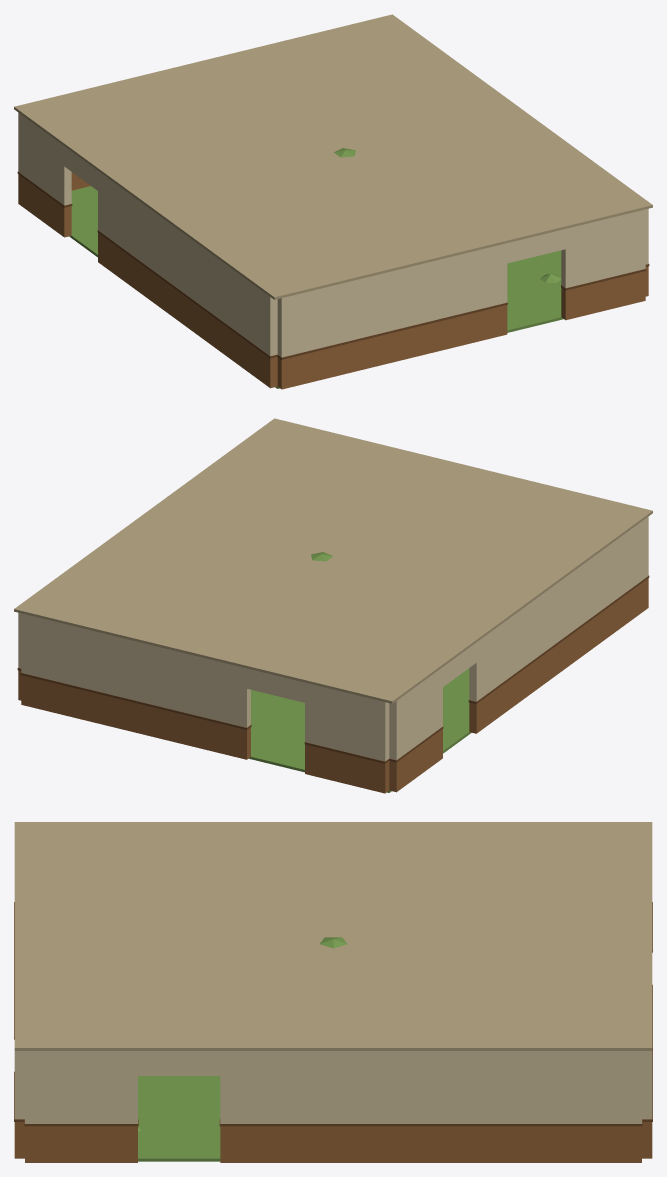
Rendered from room_zoology_habitat_sim.glb.
3 renders of one model, top to bottom at view 1: azimuth 30°, elevation 25°; view 2: azimuth 150°, elevation 25°; view 3: azimuth 270°, elevation 25°, orthographic. The views are drawn at different scales.
Parts seen in each view (by area): view 1: room_zoology_habitat_sim; view 2: room_zoology_habitat_sim; view 3: room_zoology_habitat_sim.
Part boxes in pixels (bbox=[...]): room_zoology_habitat_sim: bbox=[14, 14, 652, 389]; room_zoology_habitat_sim: bbox=[14, 418, 652, 793]; room_zoology_habitat_sim: bbox=[14, 822, 652, 1162].
Bounding box in the file's own units: 15.62 × 3.9 × 18.64.
1 material, 1 textured.
